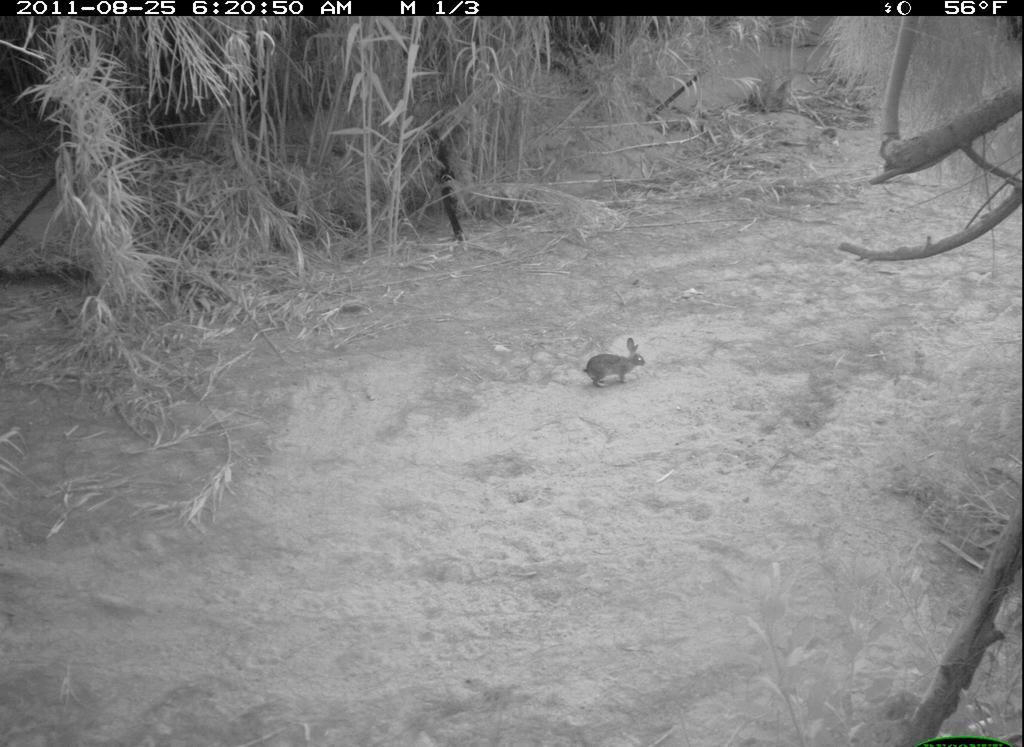rabbit: (579, 336, 651, 392)
